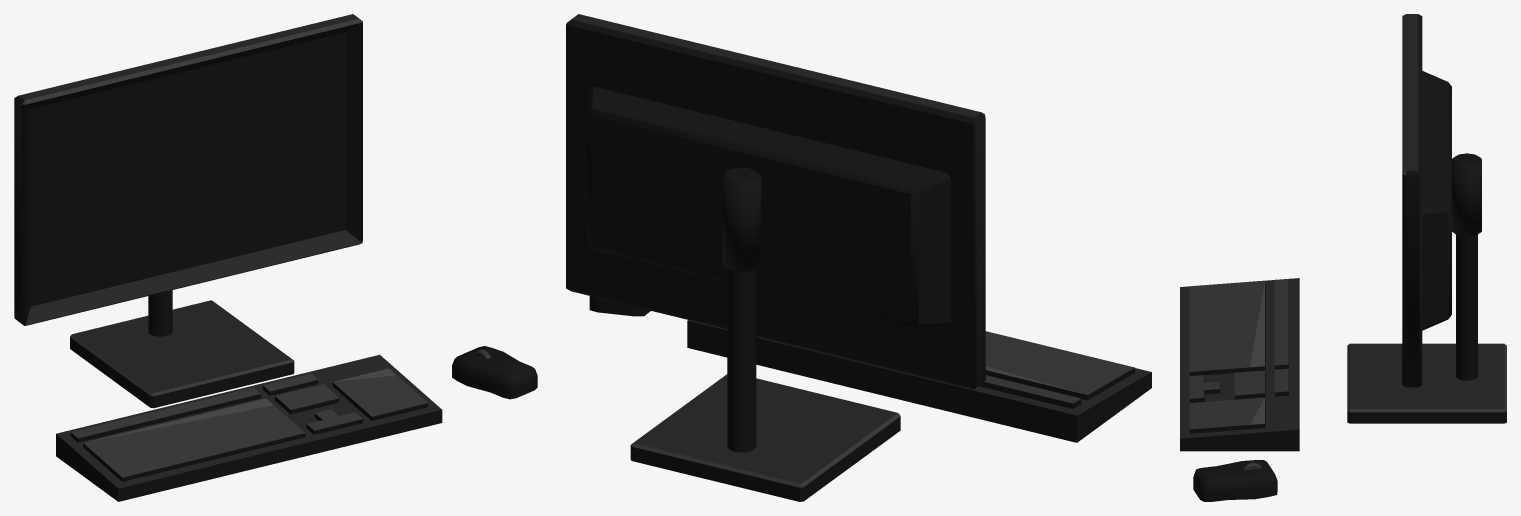
3 views of the same model, side by side, from view 1: azimuth 30°, elevation 25°; view 2: azimuth 150°, elevation 25°; view 3: azimuth 270°, elevation 25° (orthographic). The views are drawn at different scales.
Parts seen in each view (by area): view 1: PC; view 2: PC; view 3: PC.
Boxes of the visible parts, x1,y1,x2,y2 form: PC: (14,14,537,501); PC: (566,14,1151,501); PC: (1180,14,1506,501).
Size of the model in its own units: 182 by 125 by 125.
